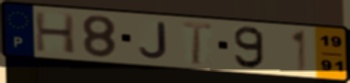1: (289, 28, 311, 75)
8: (80, 14, 118, 59)
9: (233, 25, 267, 70)
H: (32, 10, 78, 56)
J: (137, 21, 170, 61)
T: (180, 19, 214, 66)
